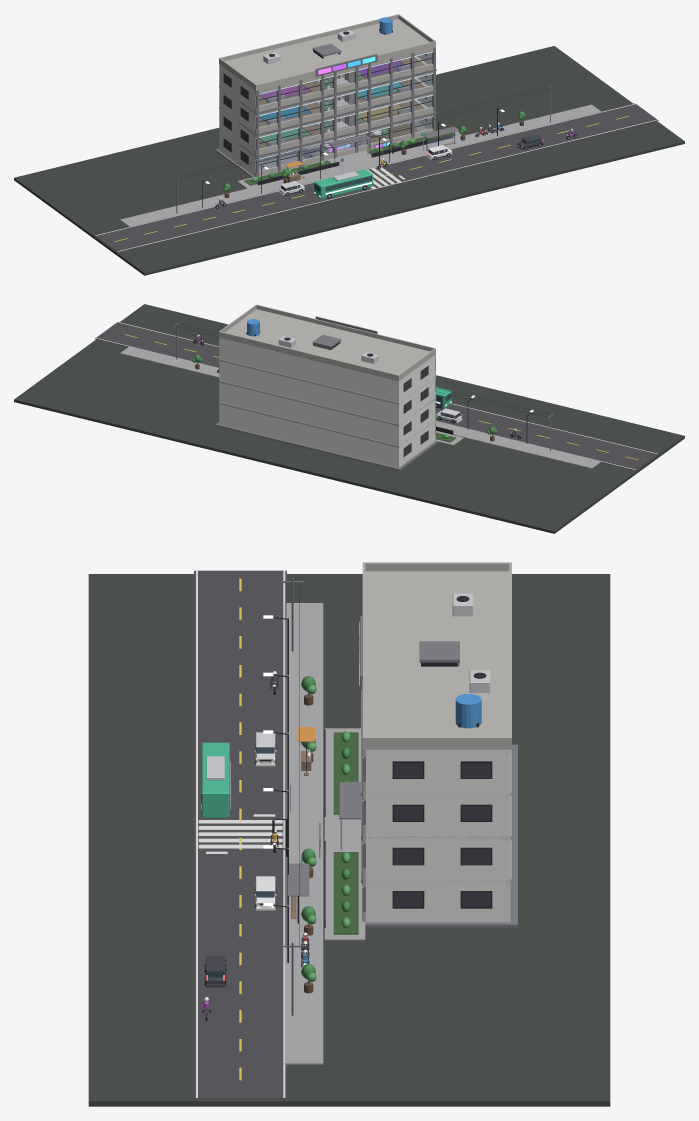
The model's file is karyawan-kantor.glb.
The picture shows the model from 3 angles, top to bottom: view 1: azimuth 30°, elevation 25°; view 2: azimuth 150°, elevation 25°; view 3: azimuth 270°, elevation 25°; orthographic projection. The views are drawn at different scales.
Visible parts, largest first — view 1: Tanah_jalan, Aspal_jalan, AtapSlab, Trotoar_jalan, FasadBawah.003, FasadBawah.002, FasadBawah.001, Parapet.001, FasadBawah, Halaman_jalan, Bodi_bus_1, Parapet (+11 smaller); view 2: Tanah_jalan, Aspal_jalan, AtapSlab, DindingBlk.003, DindingBlk, DindingBlk.002, DindingBlk.001, Trotoar_jalan, Parapet.001, Parapet, Fondasi, DindingSamping.006 (+7 smaller); view 3: Tanah_jalan, Aspal_jalan, AtapSlab, Trotoar_jalan, DindingSamping.001, DindingSamping.007, DindingSamping.005, DindingSamping.003, Halaman_jalan, Fondasi, Taman_jalan.001, Bodi_bus_1 (+8 smaller).
Part boxes in pixels (x1,y1,x2,y2): Tanah_jalan: [14, 46, 684, 275]; Aspal_jalan: [95, 103, 658, 252]; AtapSlab: [219, 19, 435, 90]; Trotoar_jalan: [120, 104, 601, 226]; FasadBawah.003: [255, 63, 433, 112]; FasadBawah.002: [255, 85, 433, 133]; FasadBawah.001: [255, 107, 433, 155]; Parapet.001: [219, 14, 398, 60]; FasadBawah: [255, 128, 433, 176]; Halaman_jalan: [237, 131, 461, 188]; Bodi_bus_1: [314, 169, 372, 198]; Parapet: [256, 41, 435, 89]; Tanah_jalan: [14, 304, 684, 533]; Aspal_jalan: [95, 321, 658, 470]; AtapSlab: [219, 309, 435, 381]; DindingBlk.003: [219, 337, 399, 402]; DindingBlk: [219, 404, 399, 467]; DindingBlk.002: [219, 361, 399, 424]; DindingBlk.001: [219, 382, 399, 445]; Trotoar_jalan: [120, 346, 601, 468]; Parapet.001: [219, 331, 398, 380]; Parapet: [256, 304, 435, 351]; Fondasi: [215, 422, 438, 470]; DindingSamping.006: [399, 355, 435, 401]; Tanah_jalan: [88, 574, 610, 1106]; Aspal_jalan: [194, 570, 286, 1098]; AtapSlab: [363, 571, 511, 749]; Trotoar_jalan: [284, 603, 323, 1064]; DindingSamping.001: [366, 879, 508, 922]; DindingSamping.007: [366, 749, 508, 792]; DindingSamping.005: [366, 792, 508, 835]; DindingSamping.003: [366, 836, 508, 879]; Halaman_jalan: [324, 728, 365, 940]; Fondasi: [365, 744, 517, 927]; Taman_jalan.001: [333, 852, 358, 934]; Bodi_bus_1: [201, 742, 229, 817].
Bounding box in the file's own units: 110 × 20.25 × 46.
